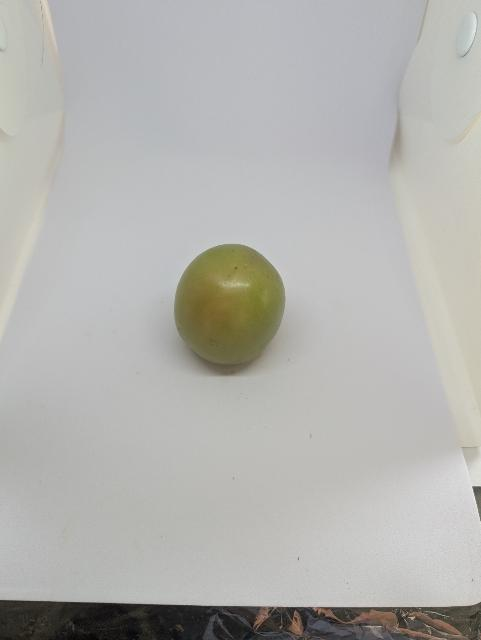green: (161, 242, 299, 375)
